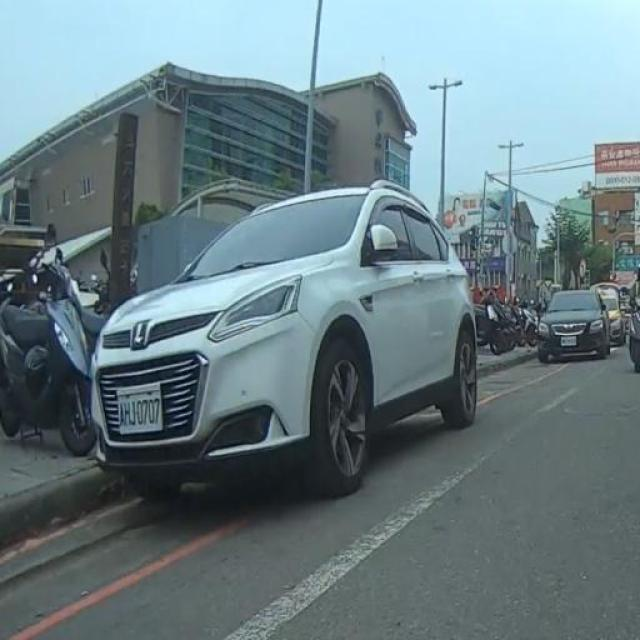illegalparking: (94, 181, 479, 495), (538, 288, 620, 362)
